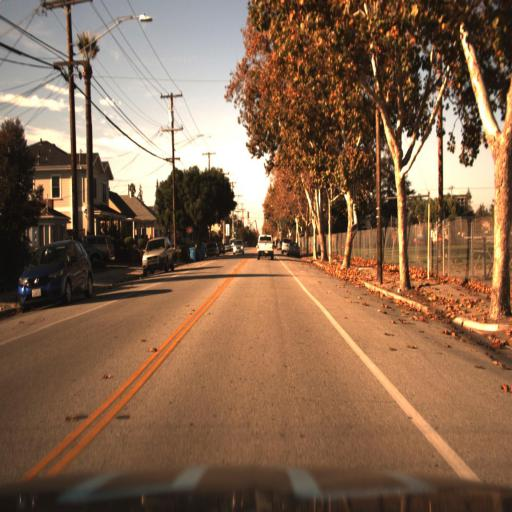car: (18, 238, 93, 312), (74, 231, 116, 270), (140, 235, 178, 275), (139, 233, 173, 276), (255, 230, 275, 260), (286, 236, 304, 260), (231, 238, 243, 260)
